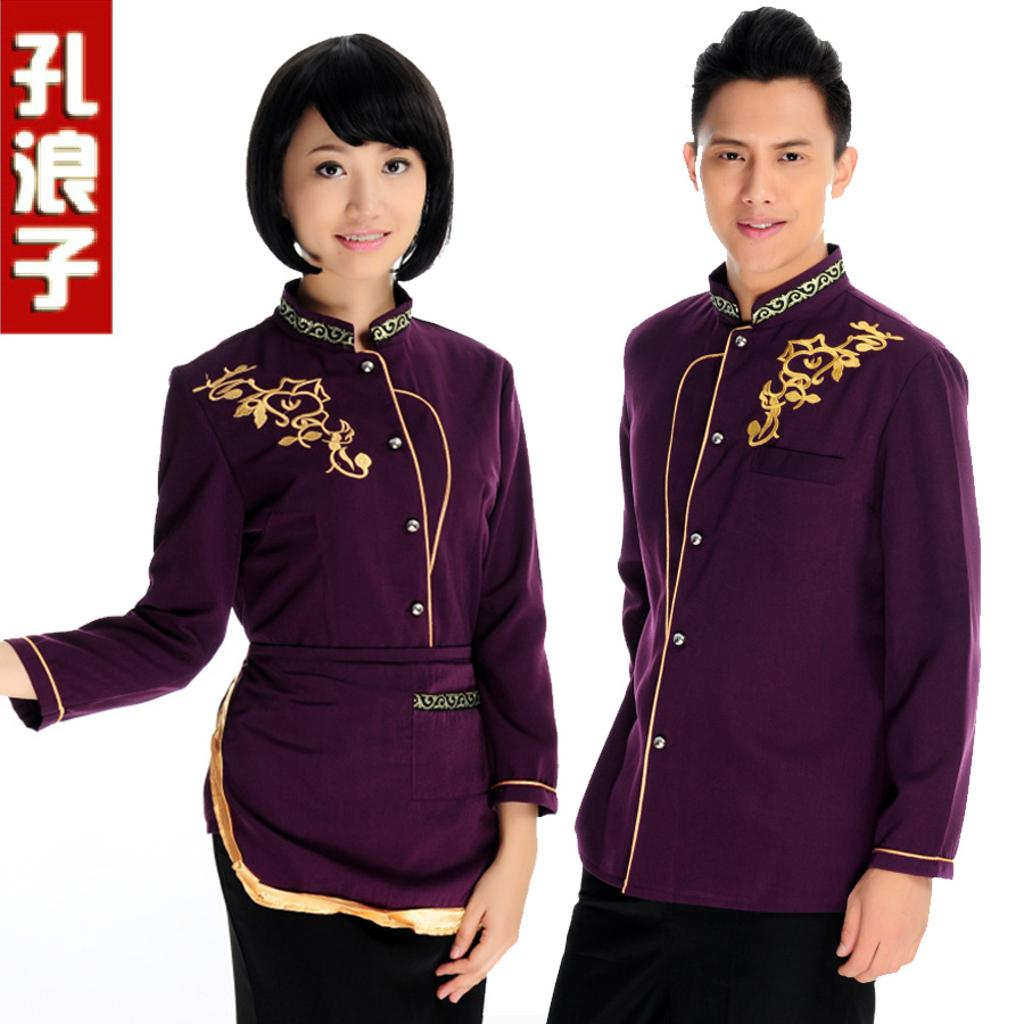face: (700, 66, 836, 268), (288, 94, 430, 274)
